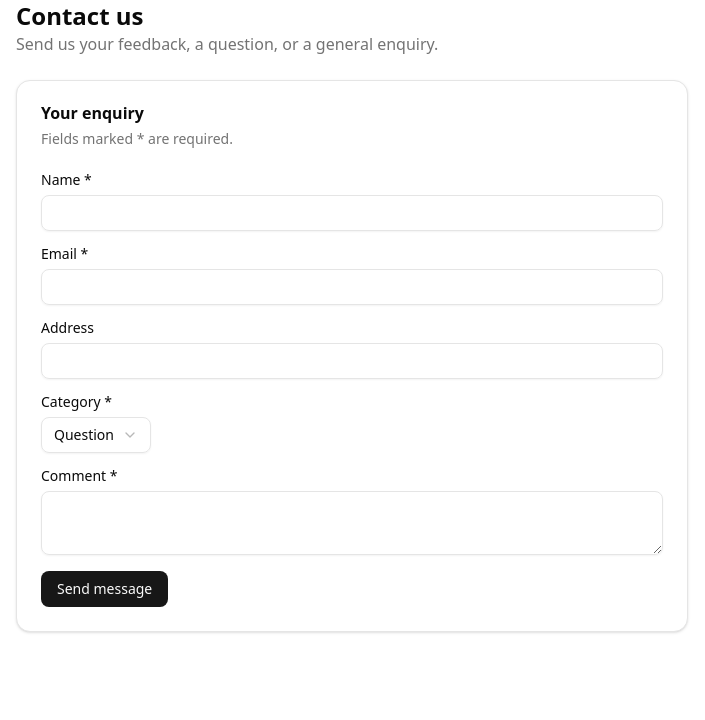
Test: Story 2 — contact form › on success shows "Message sent!" with a confirmation of what was sent and clears the form
Type "Val Visitor" into the field labelled "Name *".
click(352, 213); type("Val Visitor")  # box [41,195,663,231]
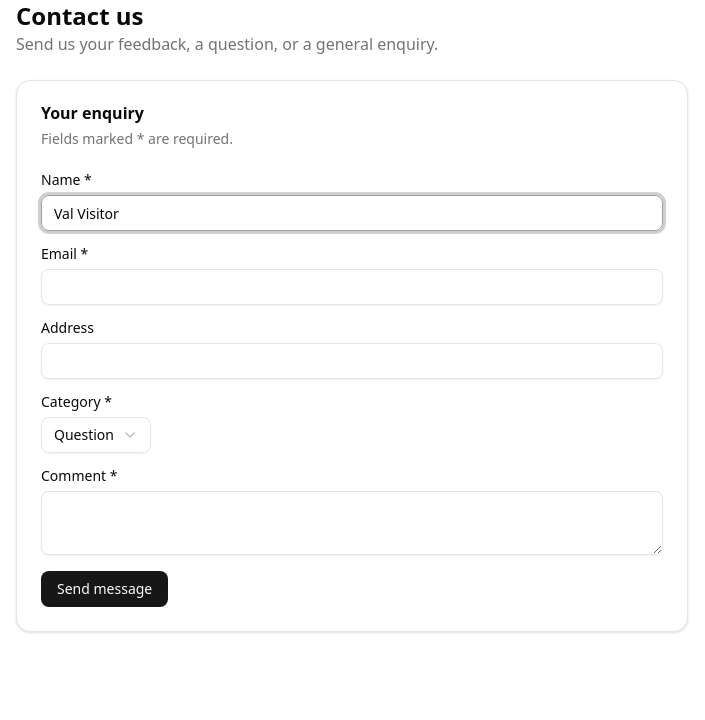
Type "visitor@example.com" into the field labelled "Email *".
click(352, 287); type("visitor@example.com")  # box [41,269,663,305]
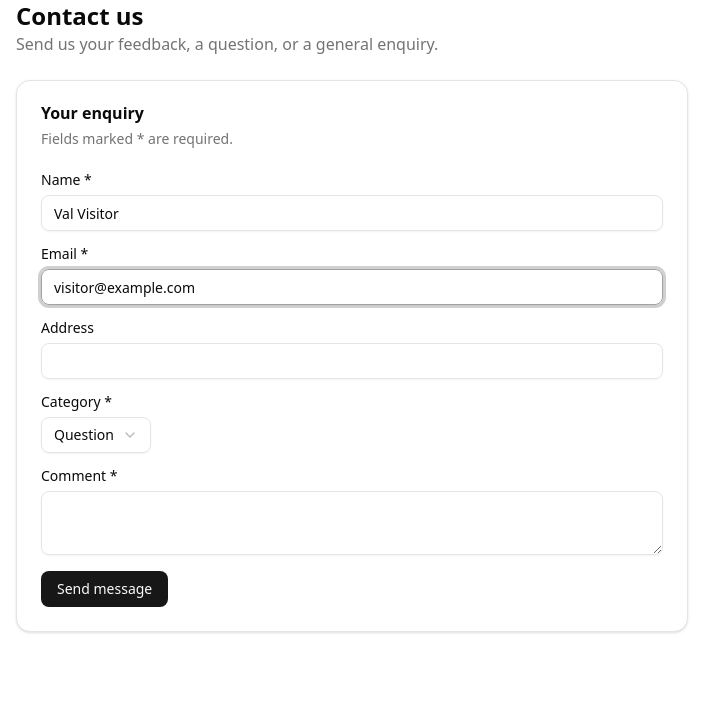
Type "Do you offer gift cards?" into the text box labelled "Comment *".
click(352, 523); type("Do you offer gift cards?")  # box [41,491,663,555]
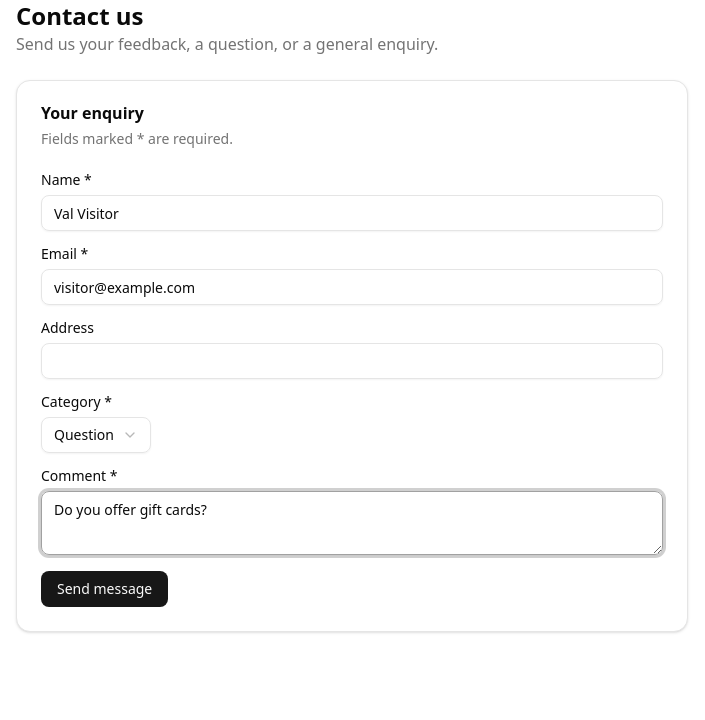
Click the button "Send message".
click(105, 589)  # box [41,571,168,607]
(page scrolled)
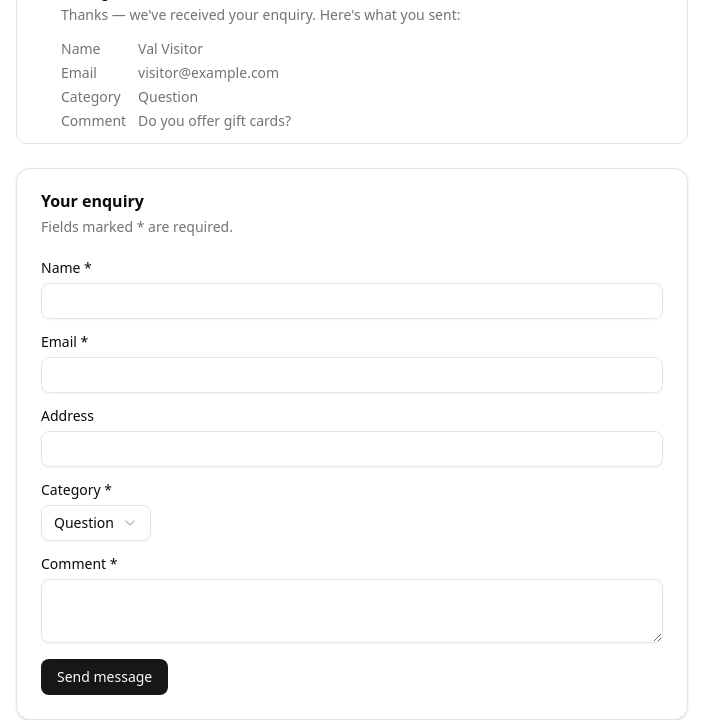
Check: the text "Do you offer gift cards?" is shown, box [138,111,291,131]
Check: the text "Val Visitor" is shown, box [138,39,203,58]
Check: the field labelled "Name *" is empty, box [41,283,663,319]
